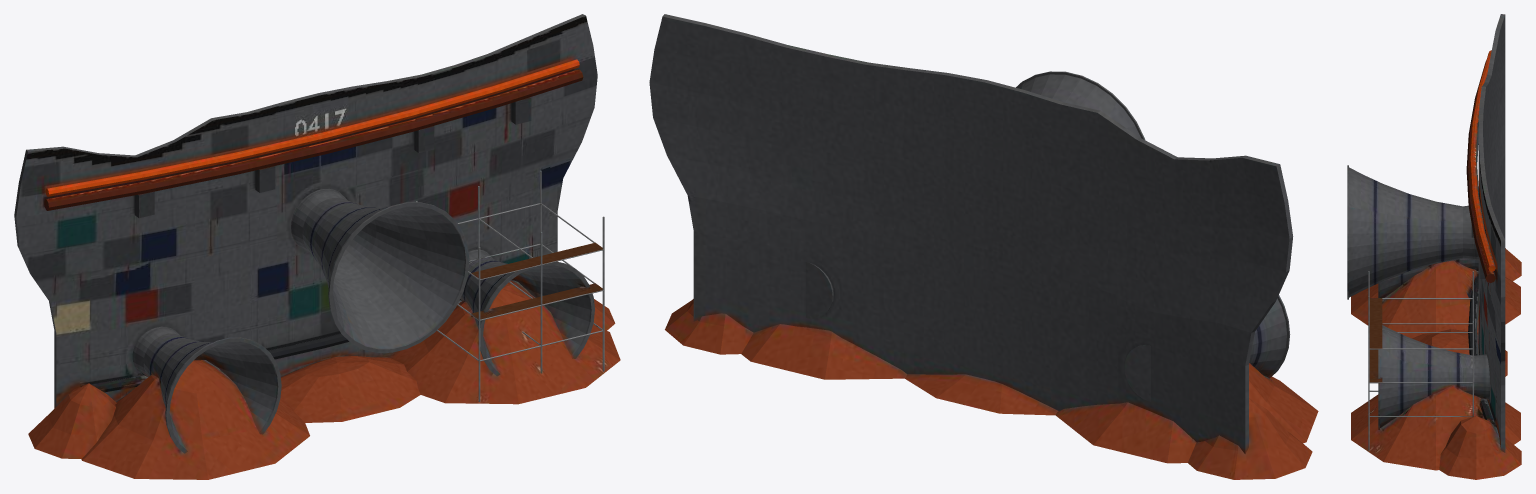
Rendered from hull_stern.glb.
3 views of the same model, side by side, from view 1: azimuth 30°, elevation 25°; view 2: azimuth 150°, elevation 25°; view 3: azimuth 270°, elevation 25° (orthographic). The views are drawn at different scales.
Parts seen in each view (by area): view 1: hull_stern; view 2: hull_stern; view 3: hull_stern.
Boxes of the visible parts, bbox=[...] form: hull_stern: bbox=[14, 14, 620, 479]; hull_stern: bbox=[649, 14, 1318, 479]; hull_stern: bbox=[1347, 14, 1521, 479].
Bounding box in the file's own units: 37.47 × 17.5 × 11.69.
1 material, 1 textured.
